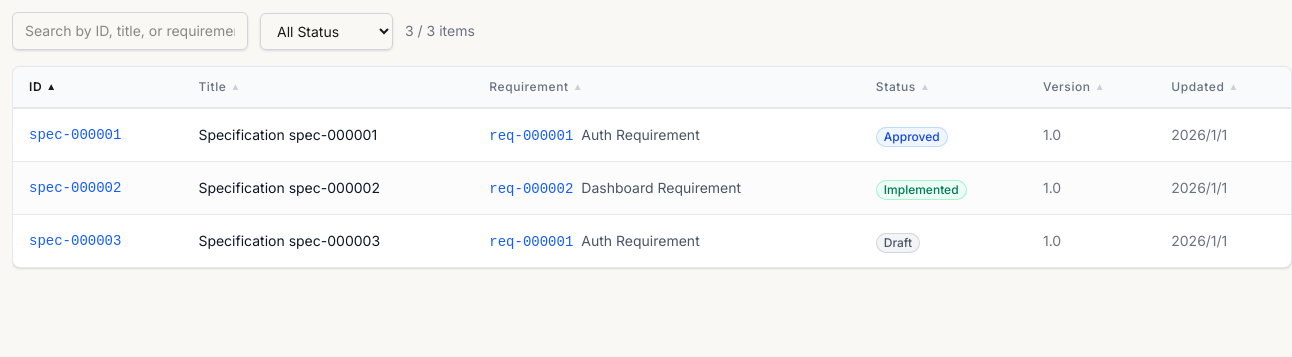
Test: SpecificationTable - 空状態UI › フィルタ結果が0件のとき空状態UIが表示される
Type "nonexistent-xyz-abc" into the field. click: (130, 31)
box: x1=12 y1=12 x2=248 y2=50
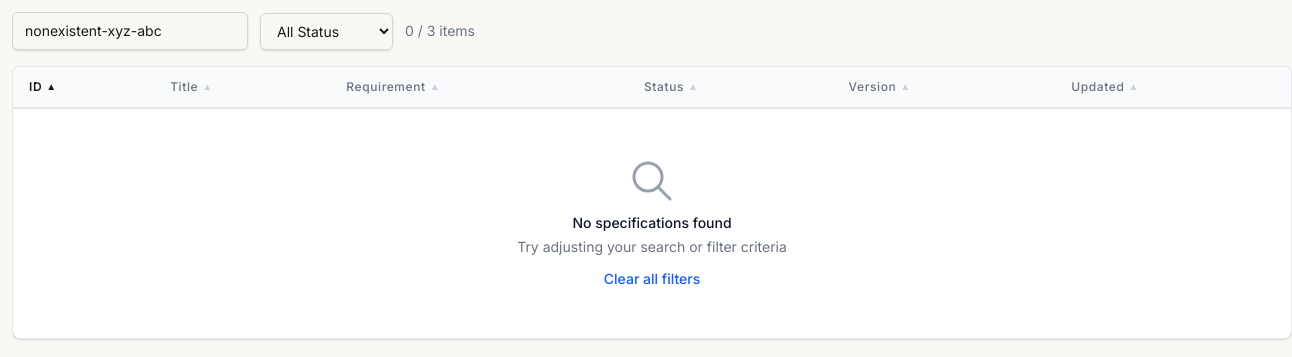
Check: the text "No specifications found" is shown, box x1=572 y1=214 x2=732 y2=231
